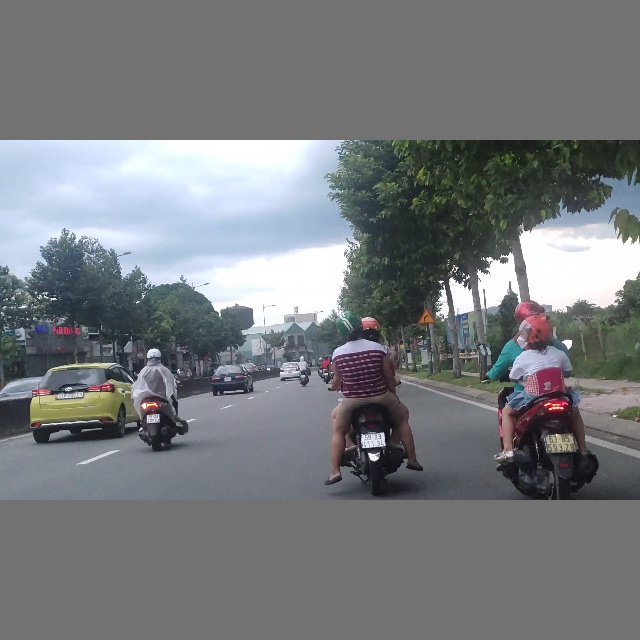W.201b: (417, 308, 435, 324)
